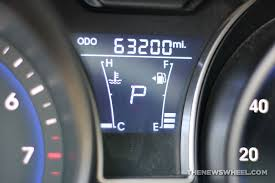Digital_Meter: (75, 25, 182, 136)
